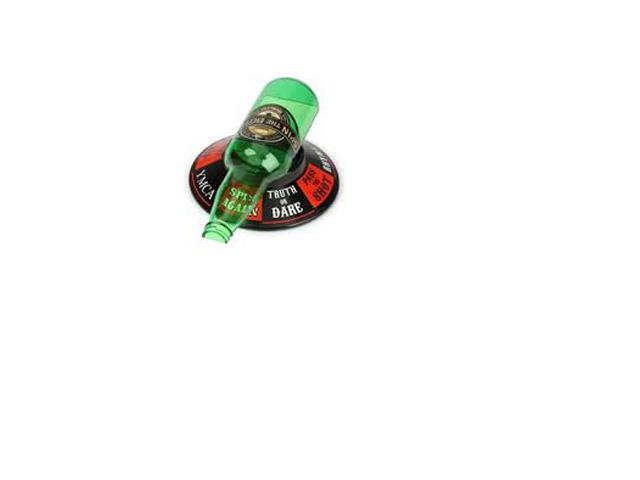beer: (203, 78, 320, 243)
